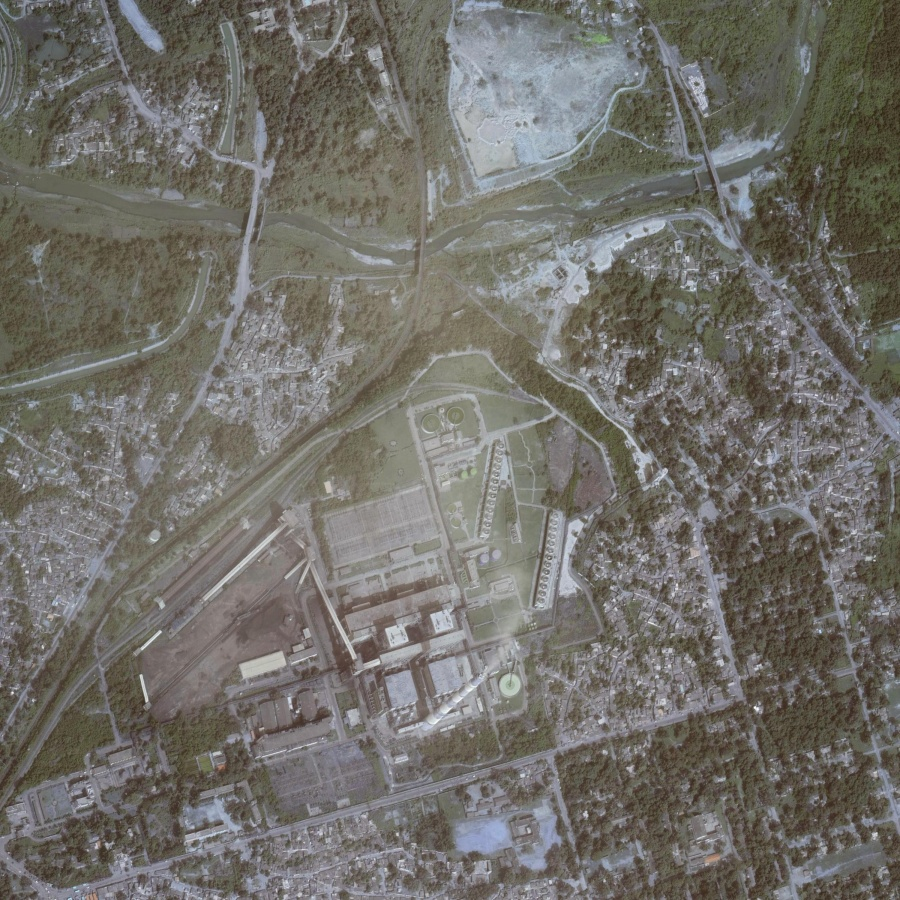PowerPlant: (136, 400, 578, 754)
